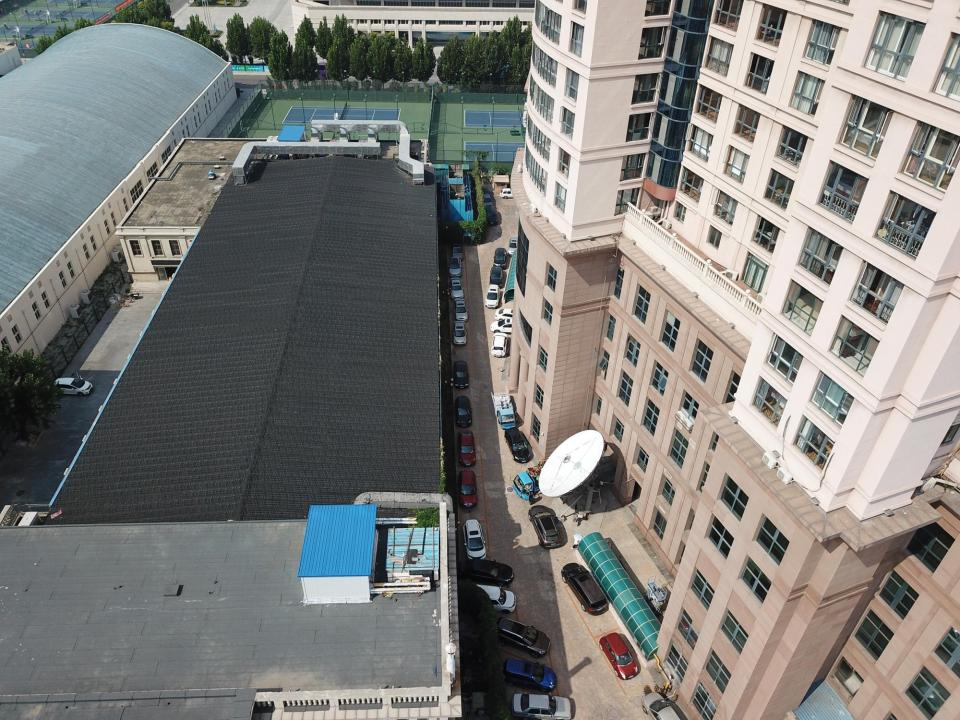car: (560, 560, 608, 616), (493, 614, 551, 658), (599, 631, 639, 680), (503, 659, 557, 692), (511, 692, 573, 720), (460, 558, 513, 585), (528, 505, 561, 548), (472, 584, 518, 614), (642, 693, 681, 720), (462, 518, 487, 560), (504, 427, 532, 463), (458, 470, 478, 510), (457, 429, 477, 468), (52, 376, 92, 395), (489, 317, 519, 333), (452, 359, 468, 389), (455, 396, 471, 426), (492, 330, 507, 357), (453, 297, 468, 320), (493, 248, 508, 269), (493, 308, 519, 320), (450, 278, 464, 300), (489, 265, 504, 285), (449, 256, 463, 276), (451, 245, 464, 263), (499, 186, 517, 198), (508, 236, 518, 257)
truck: (513, 465, 566, 503), (490, 389, 518, 429)
